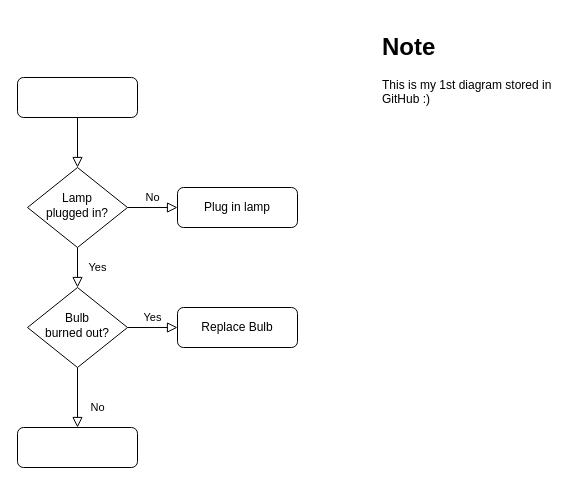
This 585x485 diagram has some shape labels left out. The box of each missing label's shape, as (x1, y1, x2, y2) in pixels:
Lamp doesn't work: (16, 76, 138, 118)
Repair Lamp: (16, 426, 138, 468)
